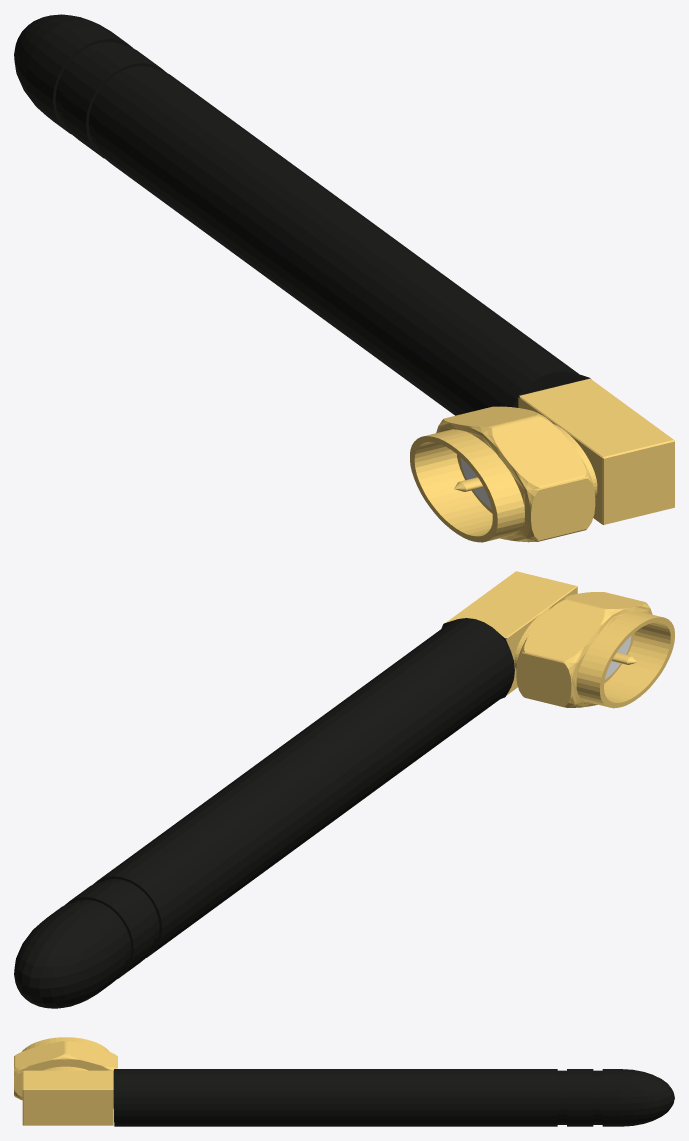
Rendered from antenna_sma_90.glb.
3 renders of one model, top to bottom at view 1: azimuth 30°, elevation 25°; view 2: azimuth 150°, elevation 25°; view 3: azimuth 270°, elevation 25°, orthographic. The views are drawn at different scales.
Visible parts, largest first — view 1: Cube.002_antenna_0; view 2: Cube.002_antenna_0; view 3: Cube.002_antenna_0.
Part boxes in pixels (bbox=[...]): Cube.002_antenna_0: bbox=[14, 14, 674, 542]; Cube.002_antenna_0: bbox=[14, 571, 674, 1008]; Cube.002_antenna_0: bbox=[14, 1037, 674, 1126].
Bounding box in the file's own units: 0.0188 × 0.01 × 0.105.
1 material, 1 textured.
